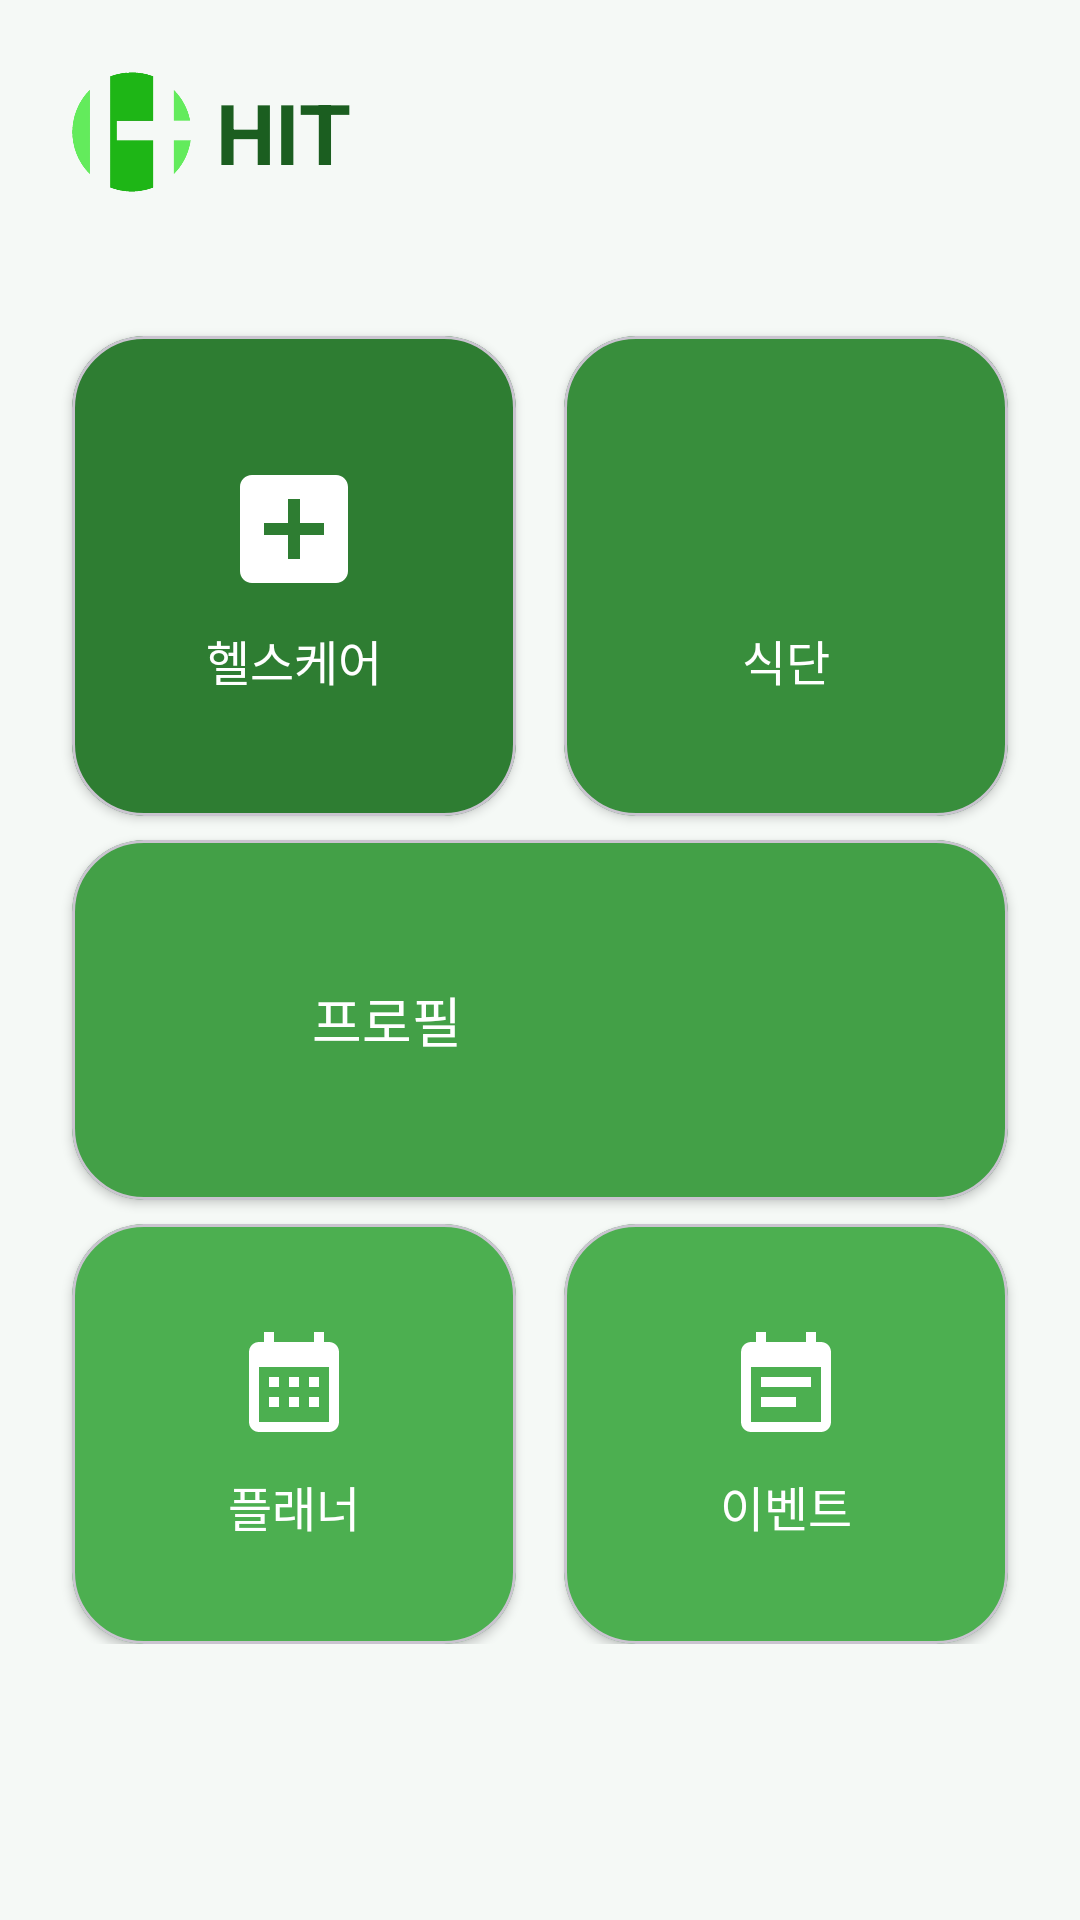

Named icons in this screenshot (1080*1920) and their bounding boxes, (x1, y1, x2, y2):
event: (741, 1332, 831, 1432)
healthcare: (240, 475, 348, 583)
planner: (249, 1332, 339, 1432)
